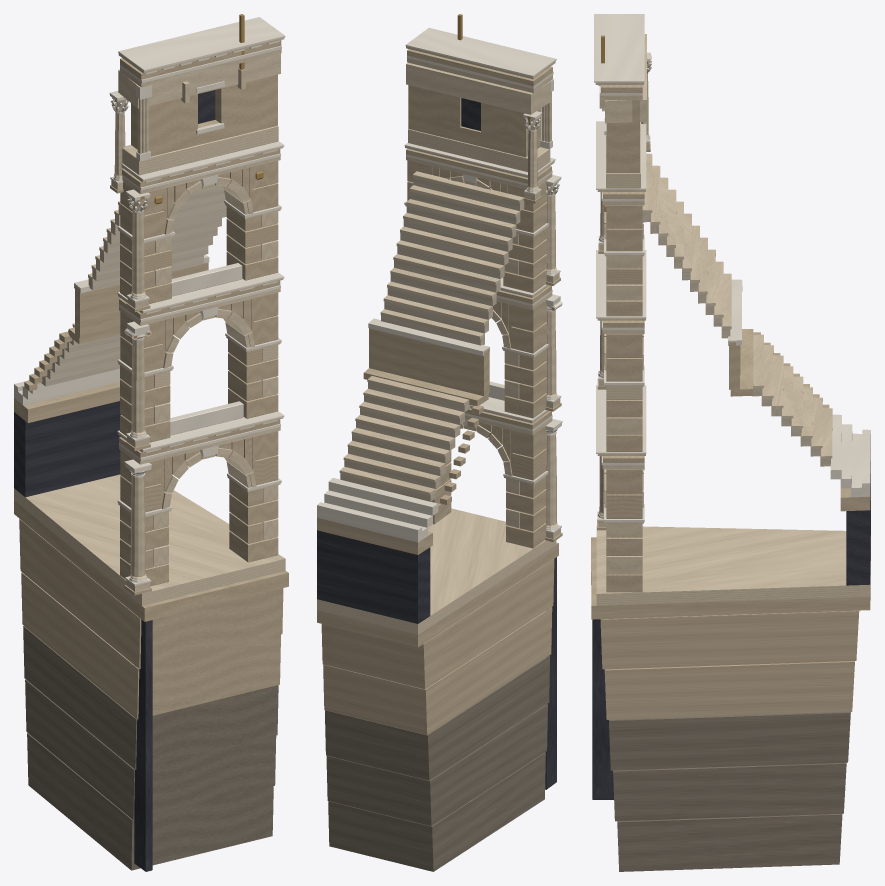
File: UMOD_01_Standard_Window_Bay.obj
3 views of the same model, side by side, from view 1: azimuth 30°, elevation 25°; view 2: azimuth 150°, elevation 25°; view 3: azimuth 270°, elevation 25° (orthographic). The views are drawn at different scales.
Parts seen in each view (by area): view 1: UMOD_01_Standard_Window_Bay; view 2: UMOD_01_Standard_Window_Bay; view 3: UMOD_01_Standard_Window_Bay.
Part boxes in pixels (box(x1,y1,x2,y2)): UMOD_01_Standard_Window_Bay: box(14, 14, 288, 871); UMOD_01_Standard_Window_Bay: box(317, 14, 562, 871); UMOD_01_Standard_Window_Bay: box(591, 14, 870, 871).
Bounding box in the file's own units: 18.44 × 96.54 × 29.96.
7 materials, 7 textured.
